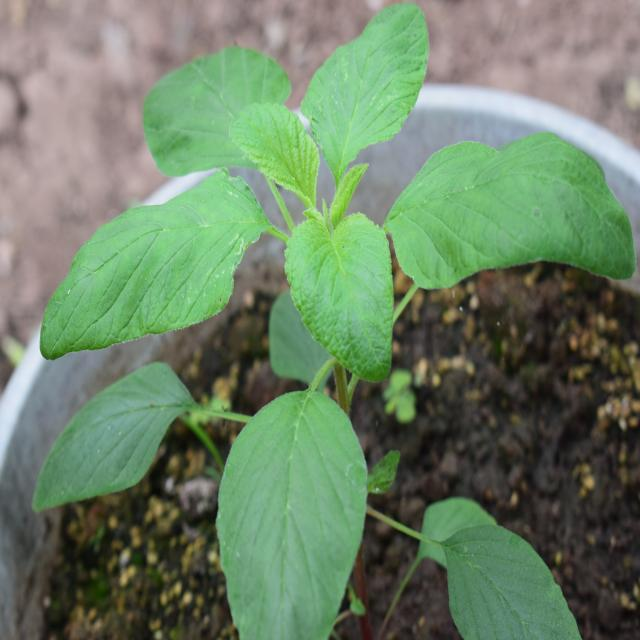pigweed: (41, 5, 609, 624)
